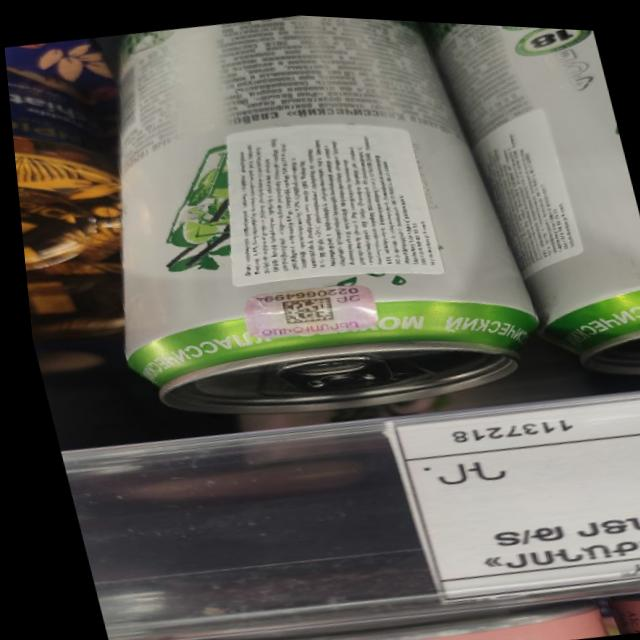datamatrix: (273, 291, 332, 325)
